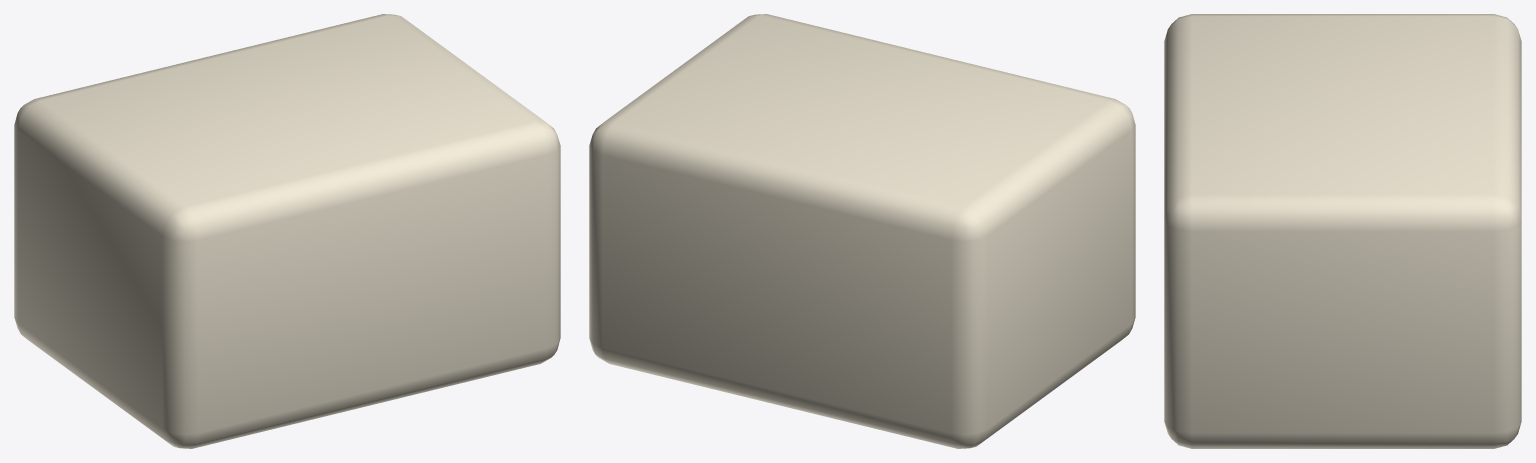
The model's file is chord_brick.glb.
3 renders of one model, left to right at view 1: azimuth 30°, elevation 25°; view 2: azimuth 150°, elevation 25°; view 3: azimuth 270°, elevation 25°, orthographic. The views are drawn at different scales.
Visible parts, largest first — view 1: ChordBrick; view 2: ChordBrick; view 3: ChordBrick.
Boxes of the visible parts, left/top/right/bottom form: ChordBrick: left=14, top=14, right=560, bottom=448; ChordBrick: left=589, top=14, right=1135, bottom=448; ChordBrick: left=1164, top=14, right=1521, bottom=448.
Bounding box in the file's own units: 0.06 × 0.035 × 0.045.
